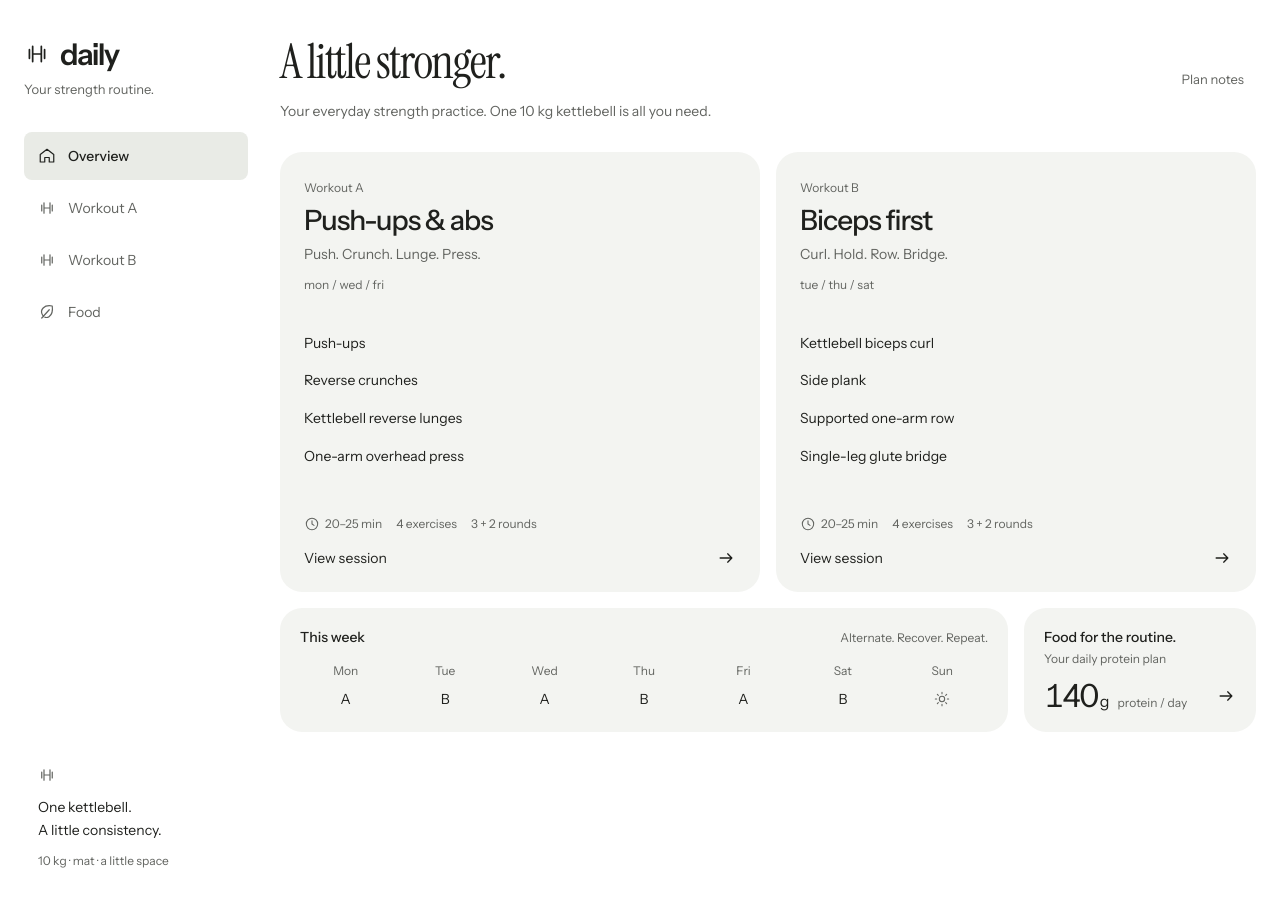
all navigation screens and the home button work
Expected: the heading "A little stronger." is shown, [280,30,506,93]
Click the button "Workout A": [136, 208] box [24,184,248,232]
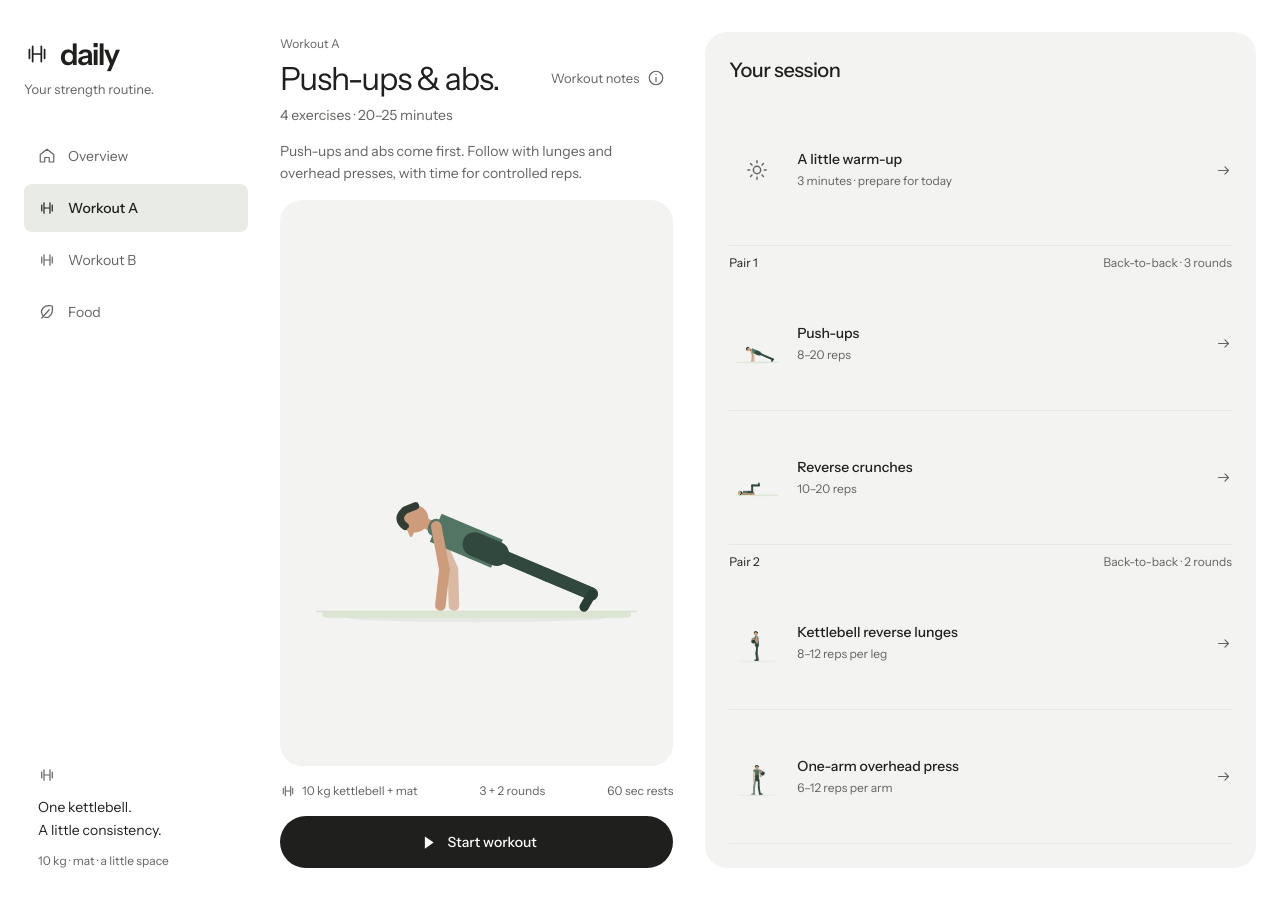
Result: the heading "Push-ups & abs." is shown at [280,61,499,98]
Click the button "Workout B": [136, 260] box [24,236,248,284]
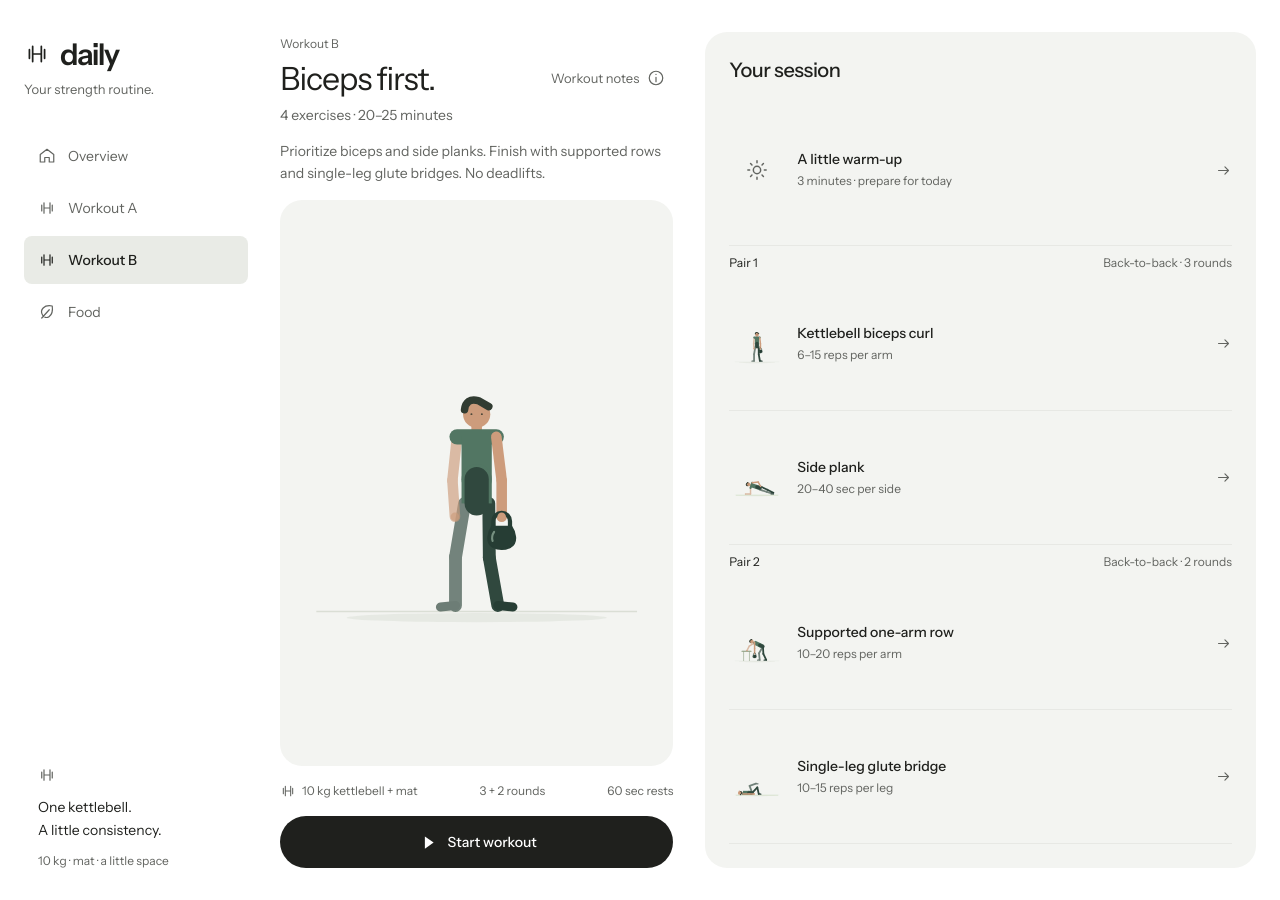
Result: the heading "Biceps first." is shown at [280,61,452,98]
Click the button "Food": [136, 312] box [24,288,248,336]
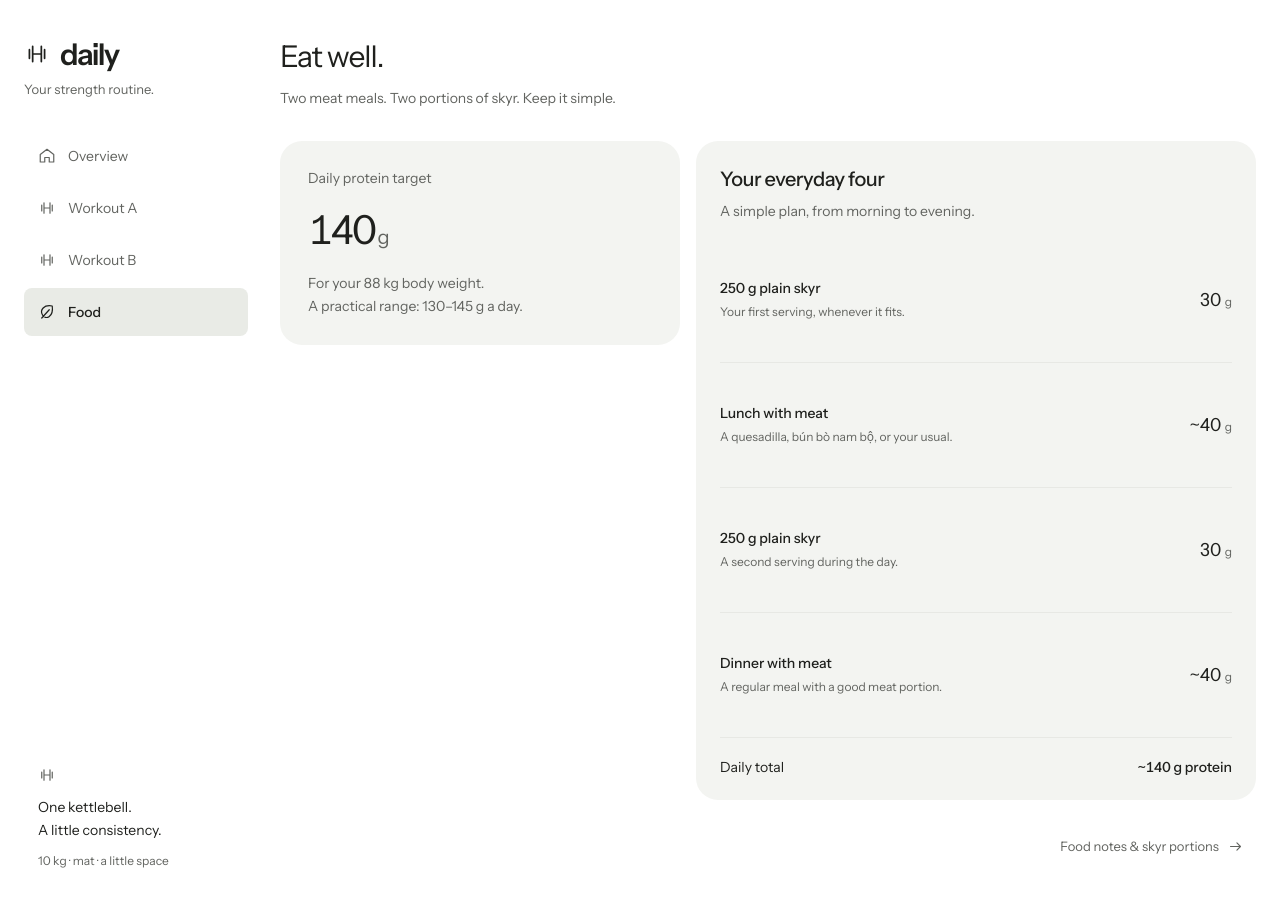
Result: the heading "Eat well." is shown at [280,38,383,75]
Click the button with aria-label "Daily home": [71, 54] box [24,32,118,76]
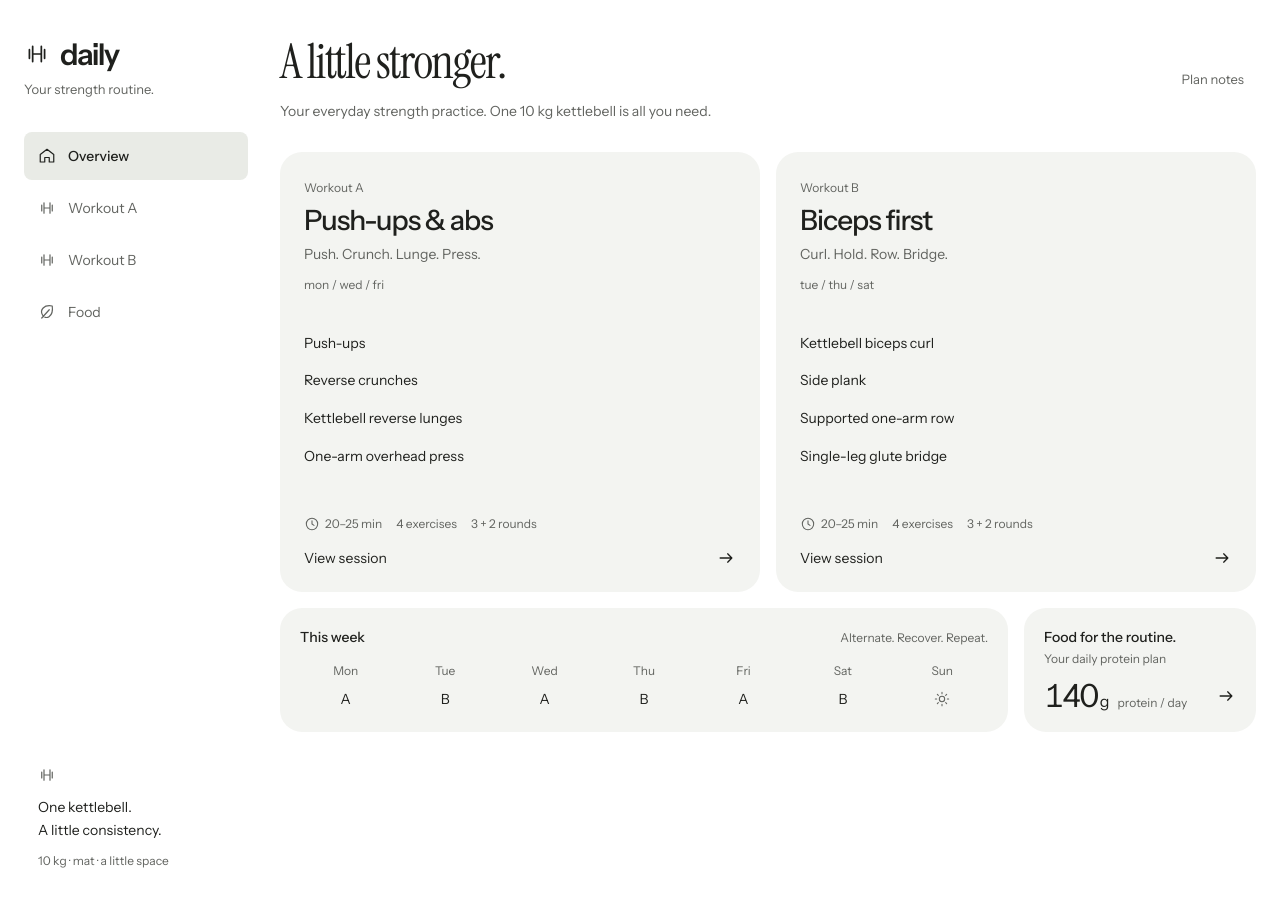
Result: the button with aria-label "Workout A: Push-ups & abs" is shown at [280,152,760,592]
